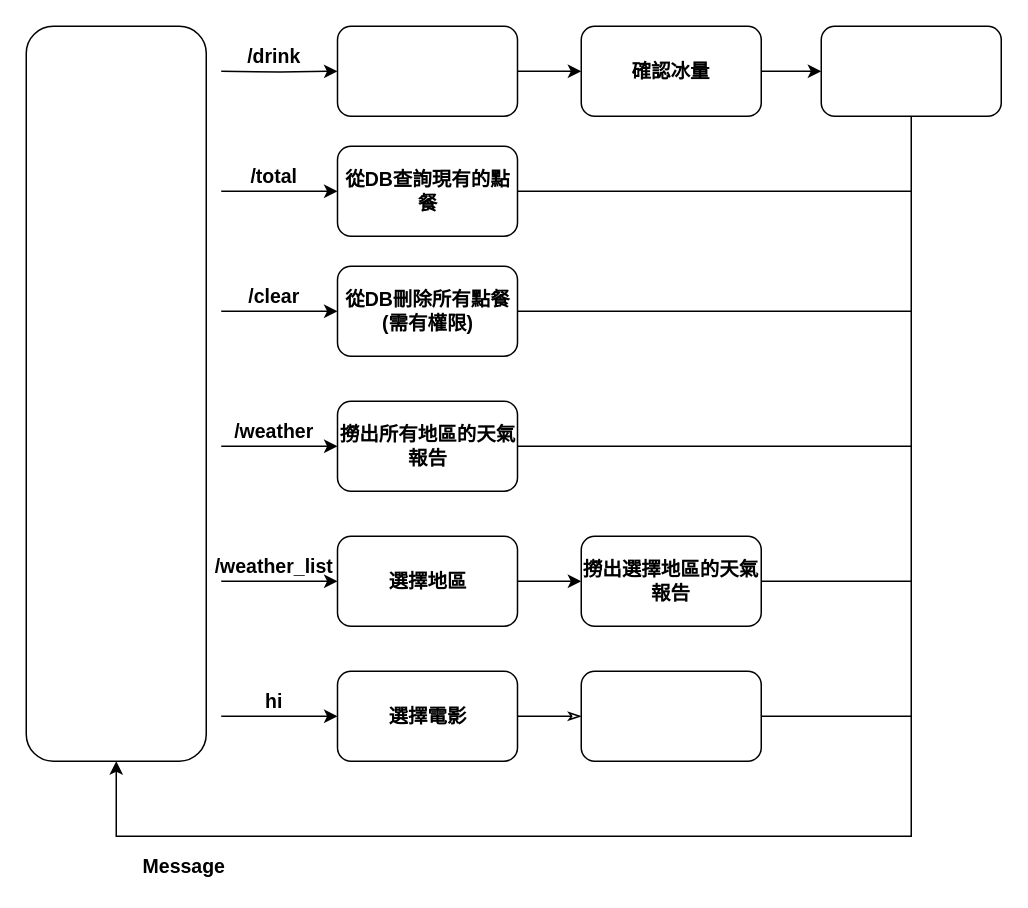
Some shapes in this 1028 by 908 pixel diagram are drawn without their labels. The box of each missing label's shape, as (x1, y1, x2, y2) in pixels:
Telegram: (25, 25, 206, 761)
完成點餐(寫入DB): (820, 25, 1001, 116)
選擇甜度: (336, 25, 518, 116)
選擇頁數: (580, 670, 761, 761)
